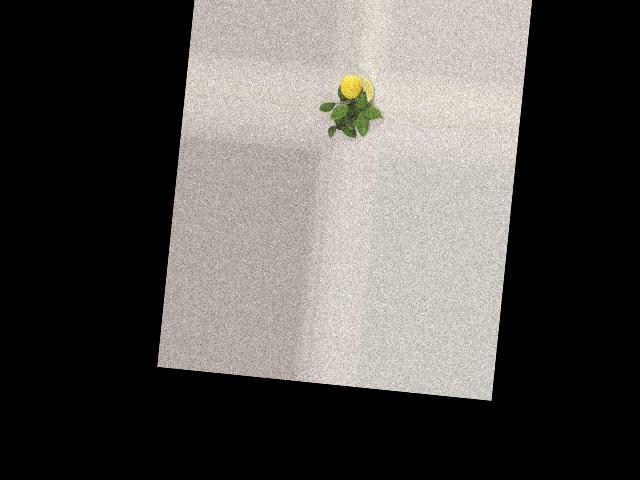lemon: (338, 74, 361, 102)
